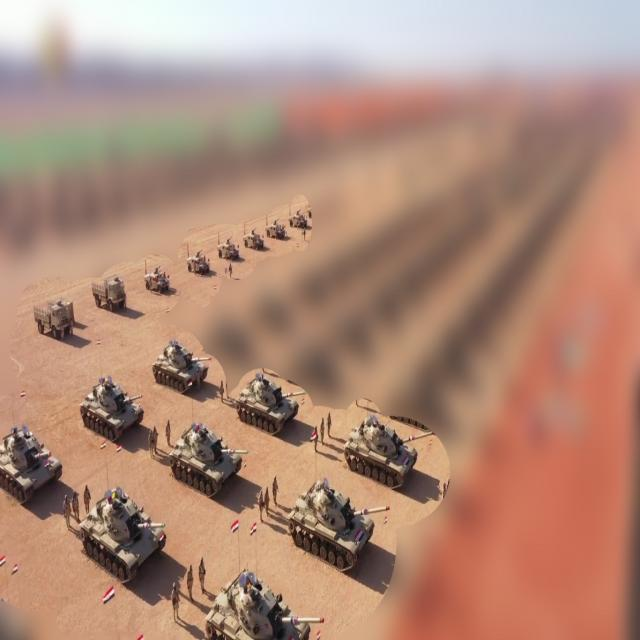tank: (283, 477, 391, 571), (77, 486, 166, 582), (204, 571, 323, 640), (149, 420, 247, 497), (344, 419, 436, 489), (0, 424, 64, 504), (236, 368, 305, 438), (79, 377, 145, 441), (152, 340, 210, 394)
